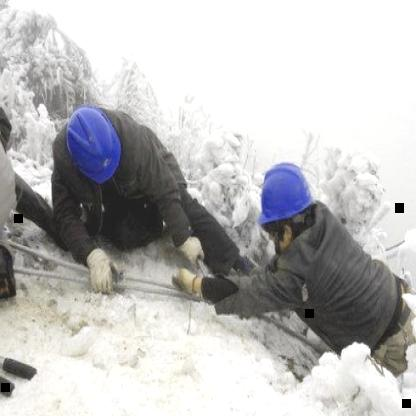helmet: (255, 151, 315, 231), (62, 105, 122, 185)
